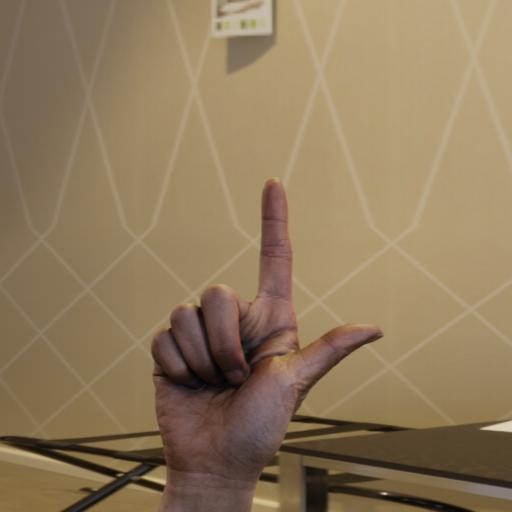L: (115, 147, 403, 485)
